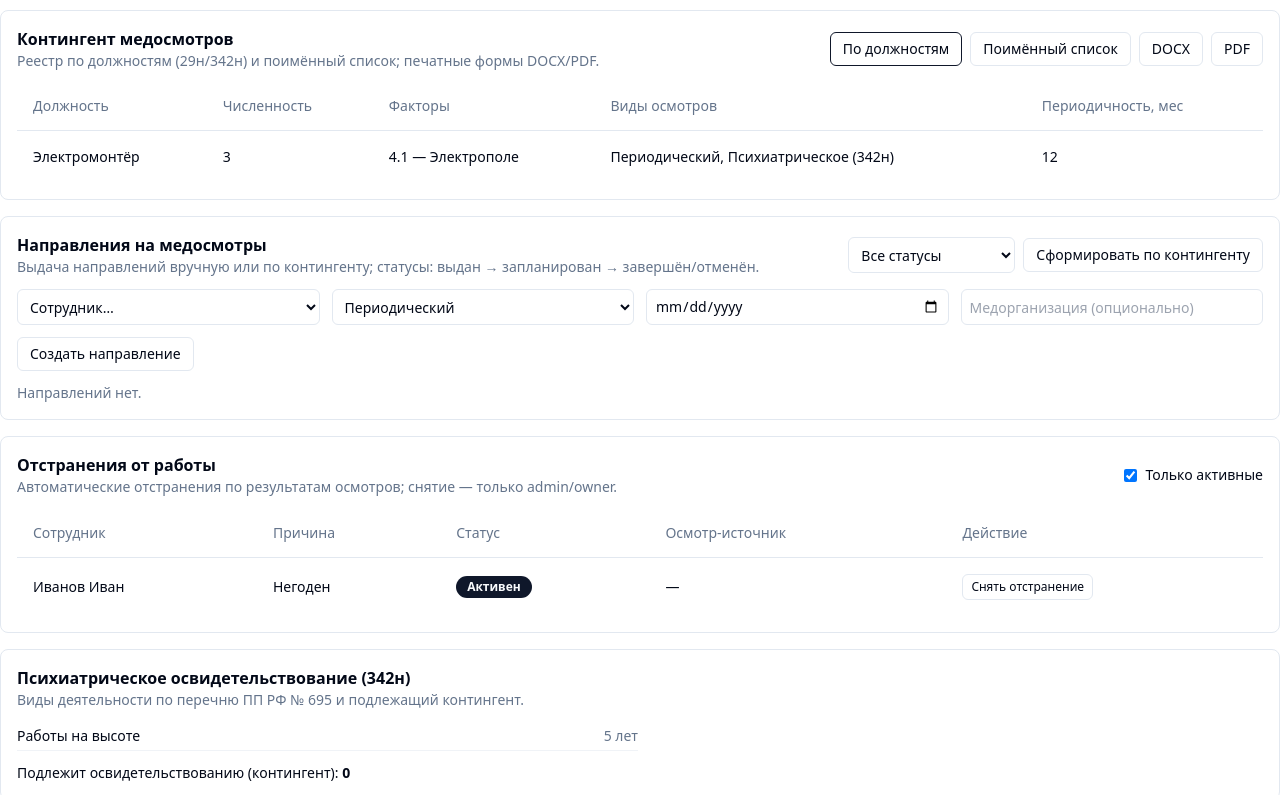
Scenario: MedicalPage suspensions section › surfaces a lift error in the alert region
This screenshot has width=1280, height=795.
(page scrolled)
Click the button "Снять отстранение": (1028, 586) x1=962 y1=574 x2=1093 y2=600
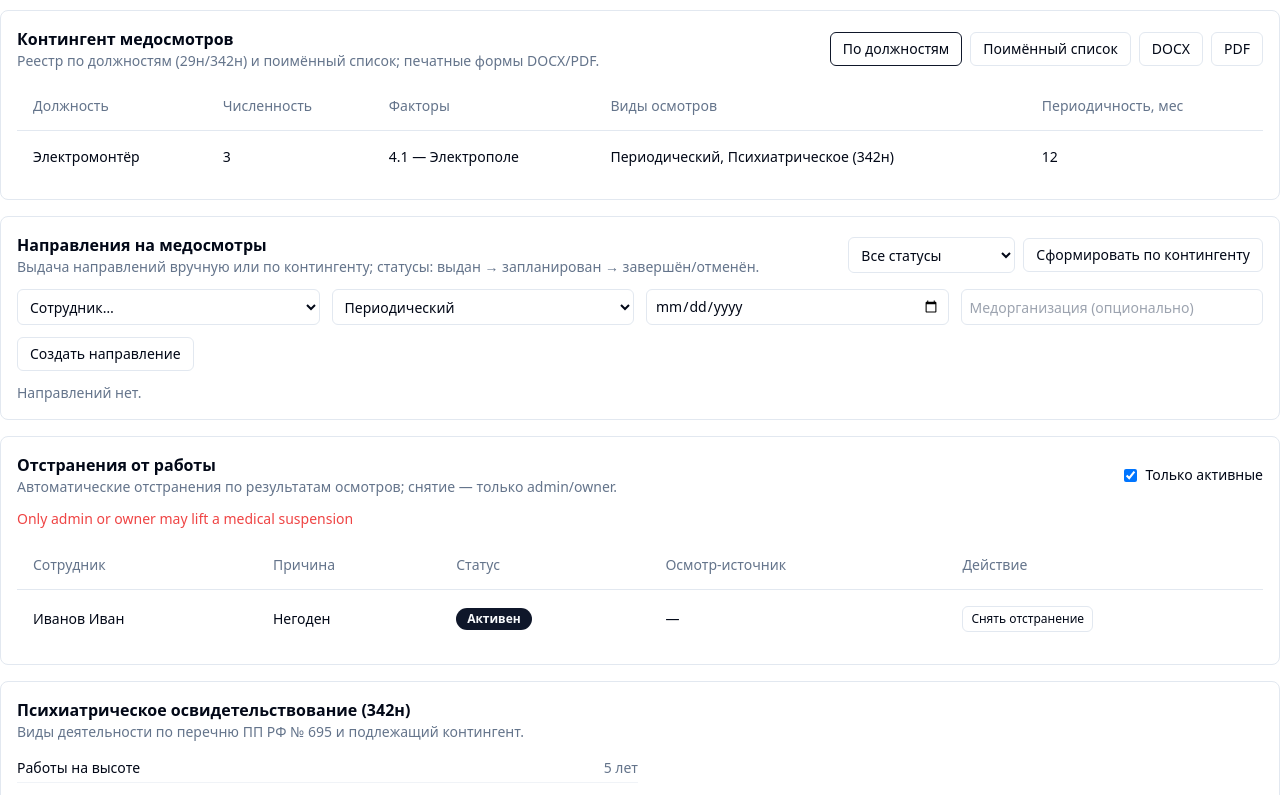
Result: the message reads "Only admin or owner may lift a medical suspension" at x1=17 y1=509 x2=353 y2=528
